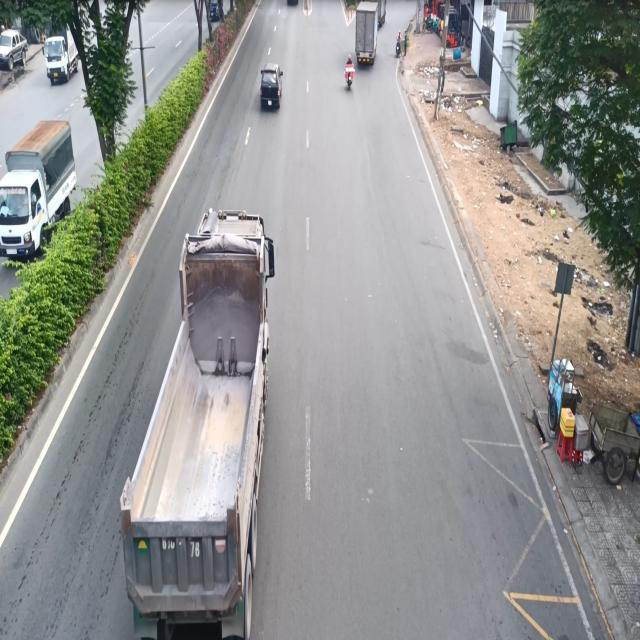car: (260, 53, 284, 116)
motor: (343, 52, 357, 98)
truck: (120, 201, 280, 640), (356, 0, 381, 69)
